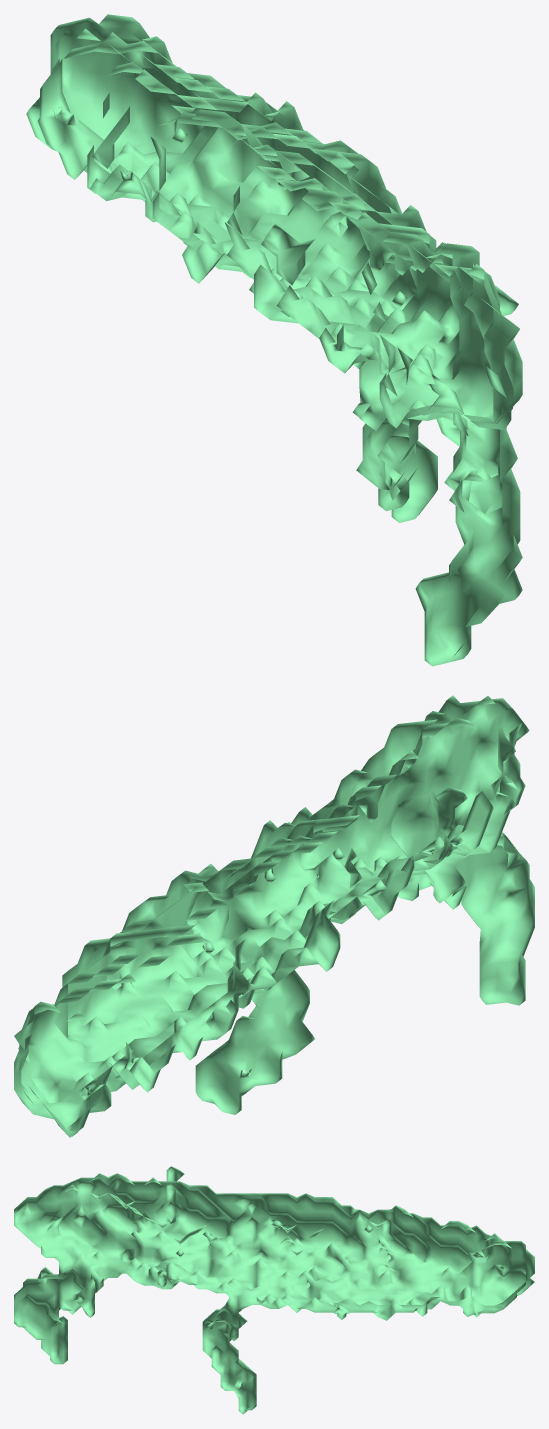
File: osteocyte_88.glb
The picture shows the model from 3 angles, top to bottom: view 1: azimuth 30°, elevation 25°; view 2: azimuth 150°, elevation 25°; view 3: azimuth 270°, elevation 25°; orthographic projection. The views are drawn at different scales.
Parts seen in each view (by area): view 1: osteocyte_88; view 2: osteocyte_88; view 3: osteocyte_88.
Boxes of the visible parts, x1,y1,x2,y2 form: osteocyte_88: (26,14,522,666); osteocyte_88: (14,695,534,1137); osteocyte_88: (14,1166,534,1414).
Size of the model in its own units: 8.67 by 12.04 by 27.93.
